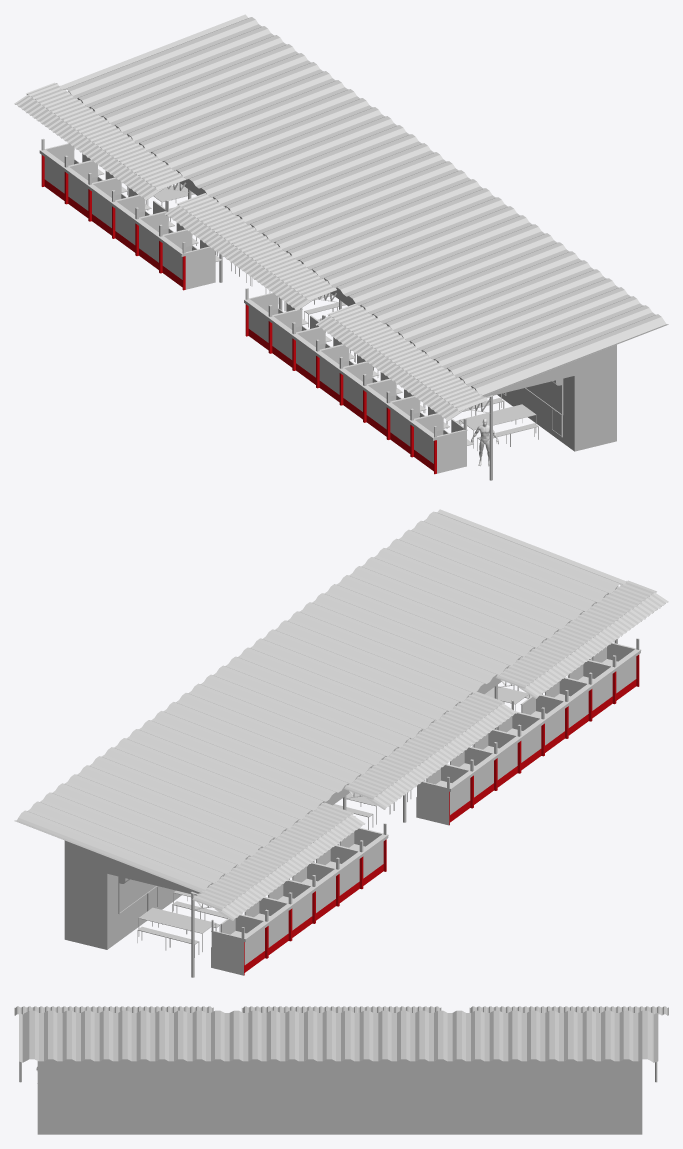
The model's file is canteen front 1.fbx.
3 views of the same model, one above another, from view 1: azimuth 30°, elevation 25°; view 2: azimuth 150°, elevation 25°; view 3: azimuth 270°, elevation 25° (orthographic). The views are drawn at different scales.
Visible parts, largest first — view 1: Cube.018, Cube.017, Cube.012, Cube.014, Cube.013, Cube.016, Cube.015; view 2: Cube.018, Cube.017, Cube.012, Cube.014, Cube.013, Cube.016, Cube.015; view 3: Cube.013, Cube.018, Cube.017.
Boxes of the visible parts, box(x1,y1,x2,y2) form: Cube.018: box(59, 14, 668, 396); Cube.017: box(14, 82, 493, 480); Cube.012: box(244, 288, 473, 474); Cube.014: box(39, 138, 222, 290); Cube.013: box(77, 98, 616, 451); Cube.016: box(127, 184, 538, 450); Cube.015: box(502, 378, 563, 437); Cube.018: box(14, 509, 626, 893); Cube.017: box(191, 580, 668, 977); Cube.012: box(416, 638, 641, 825); Cube.014: box(211, 816, 388, 975); Cube.013: box(64, 593, 608, 949); Cube.016: box(137, 675, 568, 957); Cube.015: box(118, 876, 158, 913); Cube.013: box(37, 1059, 642, 1134); Cube.018: box(19, 1010, 658, 1062); Cube.017: box(14, 1006, 668, 1082).
Bounding box in the file's own units: 3604 × 1819 × 12027.
